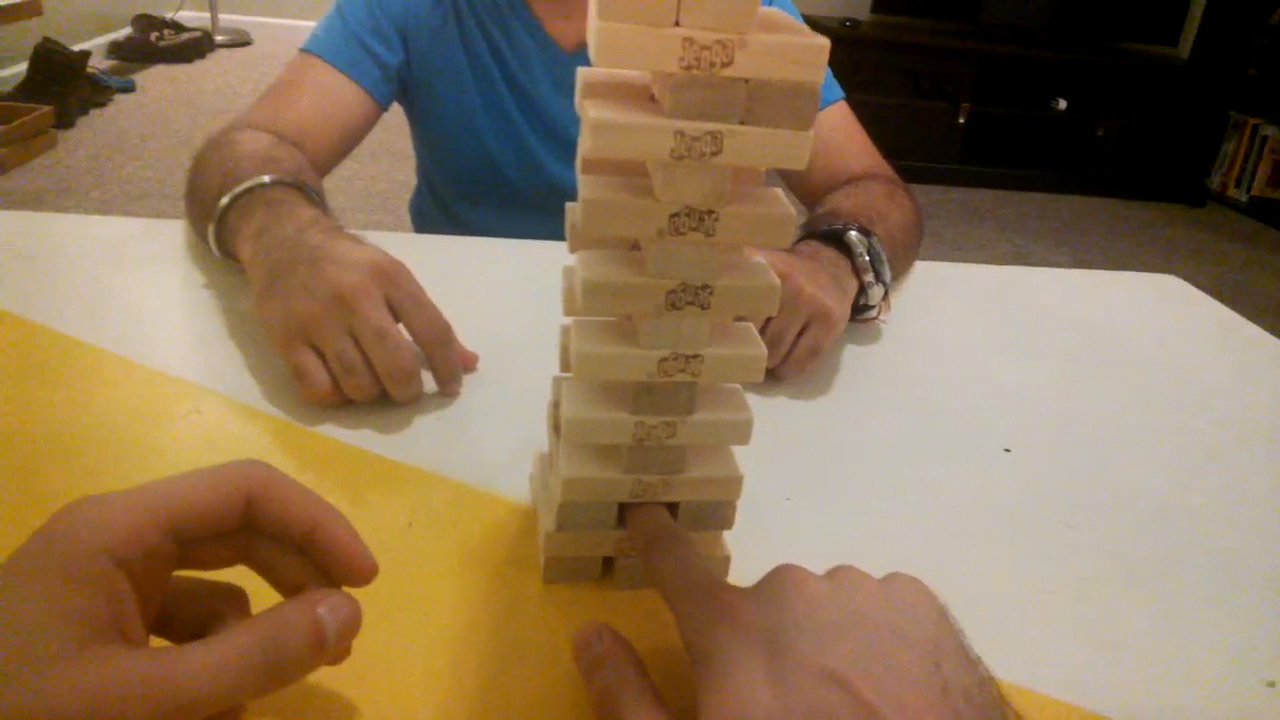hand: (6, 465, 383, 715), (580, 515, 1018, 717), (248, 222, 481, 400), (747, 243, 850, 373)
